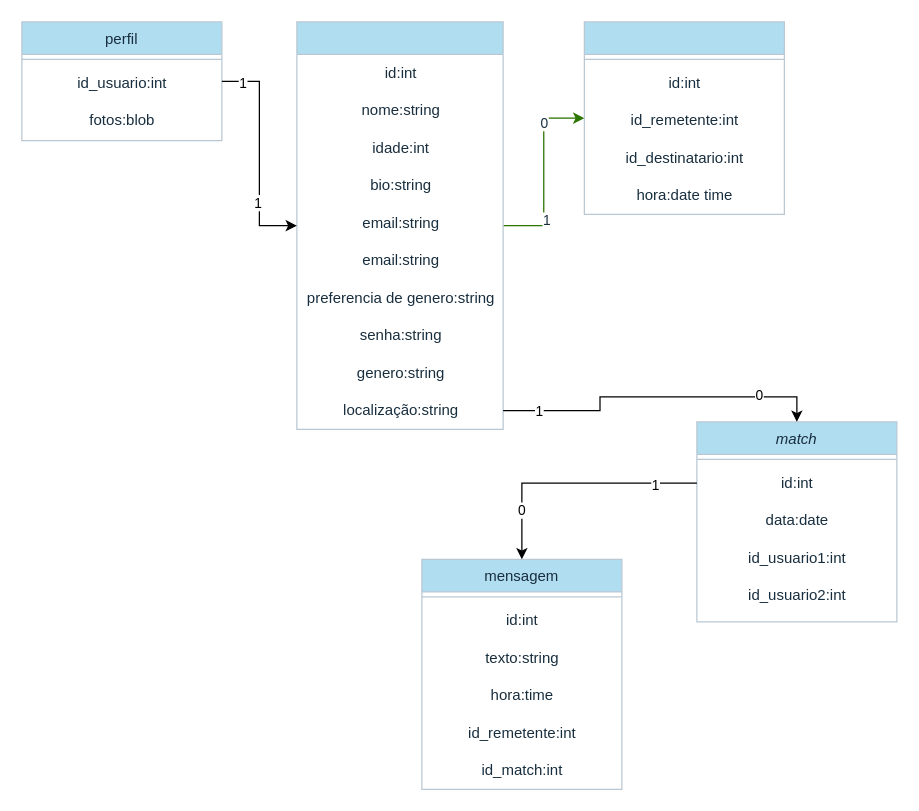
Image size: 919x811. Some labels were removed from this diagram. The box of each missing label's shape, as (x1, y1, x2, y2) in pixels:
like: (583, 21, 784, 214)
usuario: (296, 21, 503, 429)
